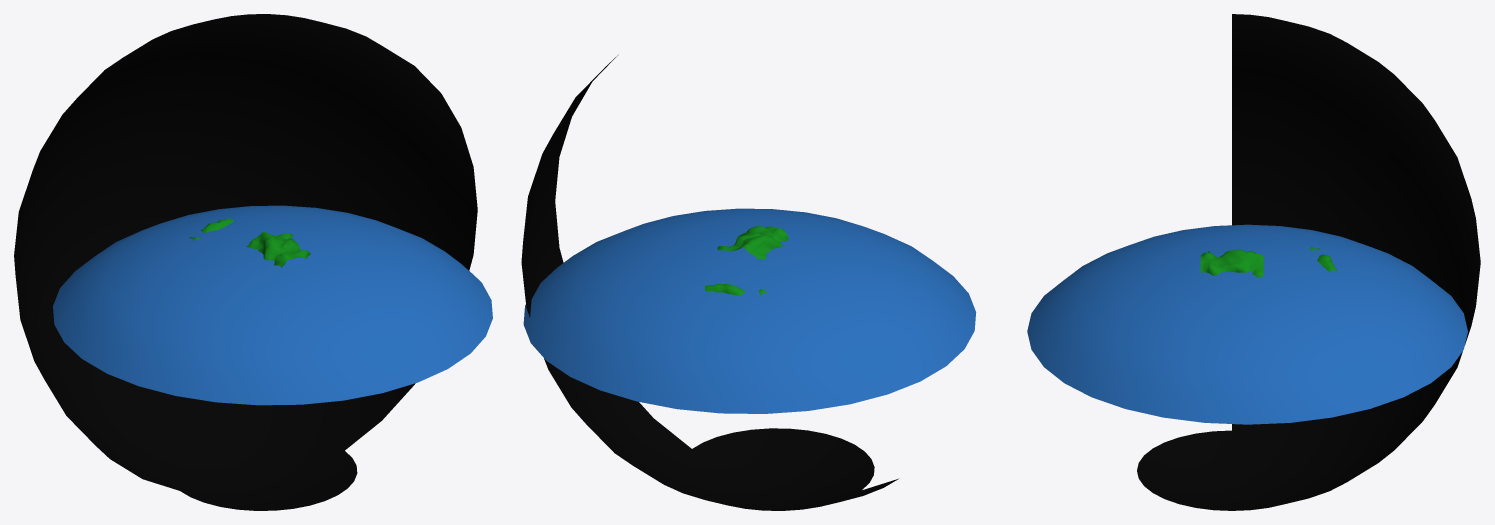
Rendered from background.obj.
3 views of the same model, side by side, from view 1: azimuth 30°, elevation 25°; view 2: azimuth 150°, elevation 25°; view 3: azimuth 270°, elevation 25° (orthographic). The views are drawn at different scales.
Visible parts, largest first — view 1: 球.001, 球, 平面; view 2: 球, 球.001, 平面; view 3: 球, 球.001, 平面.
Boxes of the visible parts, <box> form: 球.001: <box>14,14,477,510</box>; 球: <box>53,205,492,405</box>; 平面: <box>246,231,310,267</box>; 球: <box>523,208,976,413</box>; 球.001: <box>521,54,898,510</box>; 平面: <box>717,226,789,259</box>; 球: <box>1027,224,1467,424</box>; 球.001: <box>1137,14,1480,510</box>; 平面: <box>1200,249,1263,277</box>.
Size of the model in its own units: 1097 by 1097 by 1000.
